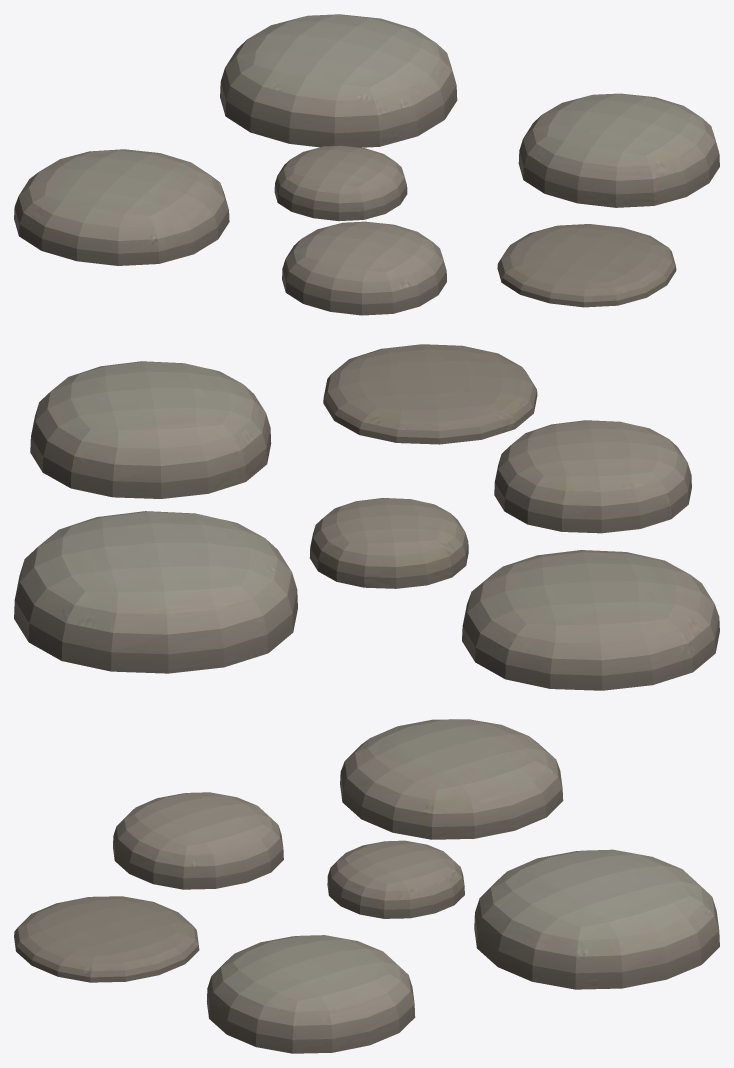
The model's file is pebbles.glb.
3 renders of one model, top to bottom at view 1: azimuth 30°, elevation 25°; view 2: azimuth 150°, elevation 25°; view 3: azimuth 270°, elevation 25°, orthographic. The views are drawn at different scales.
Visible parts, largest first — view 1: pebbles; view 2: pebbles; view 3: pebbles.
Part boxes in pixels (bbox=[...]): pebbles: bbox=[14, 14, 719, 315]; pebbles: bbox=[14, 344, 719, 690]; pebbles: bbox=[14, 719, 719, 1053].
Bounding box in the file's own units: 1 × 0.091 × 0.9678.
1 material, 1 textured.
